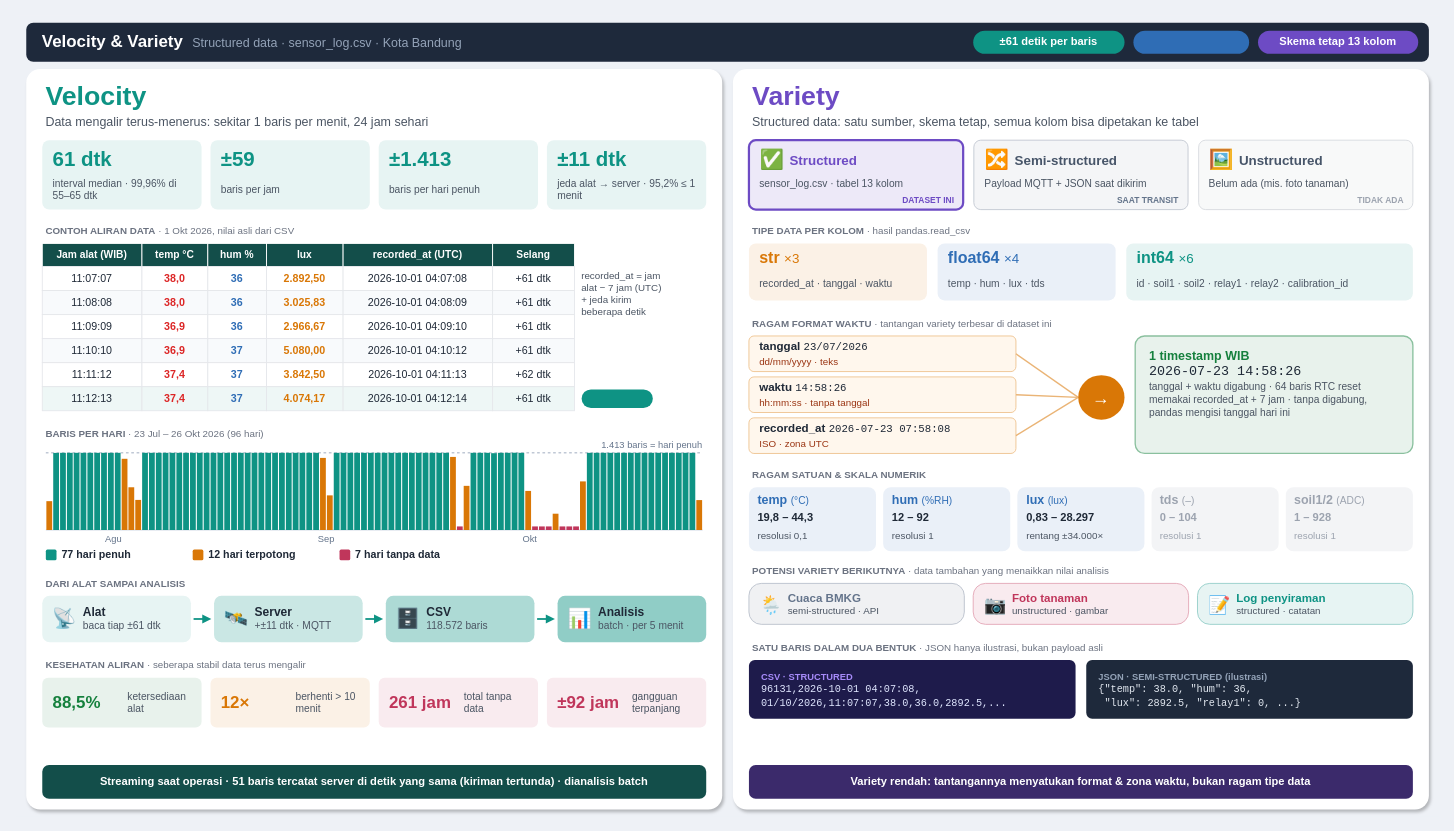
The diagram is 1454 pixels wide and 831 high, and some of its shapes have lost their labels. Each missing label, with the centre of its shape:
"Aliran 24 jam" goes at point 1191,41.
"▶ baris baru" goes at point 616,398.
